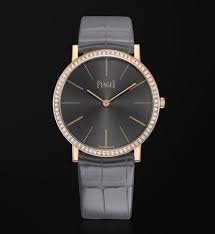clock: (60, 56, 155, 151)
